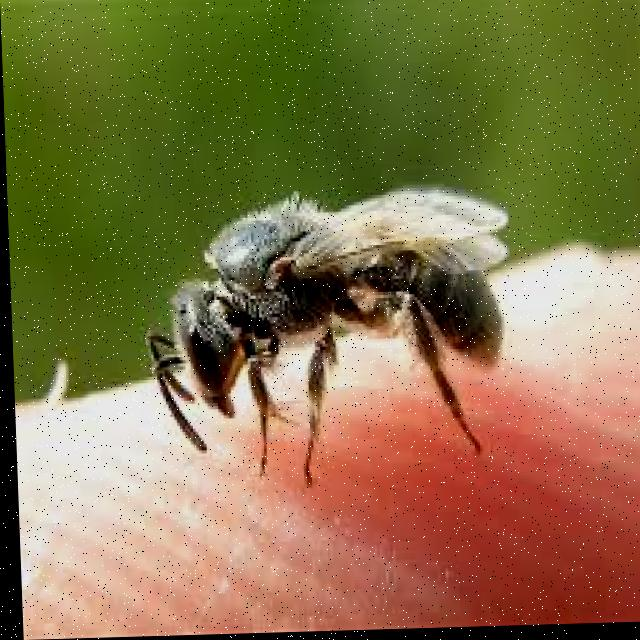Lasioglossum: (127, 159, 536, 499)
